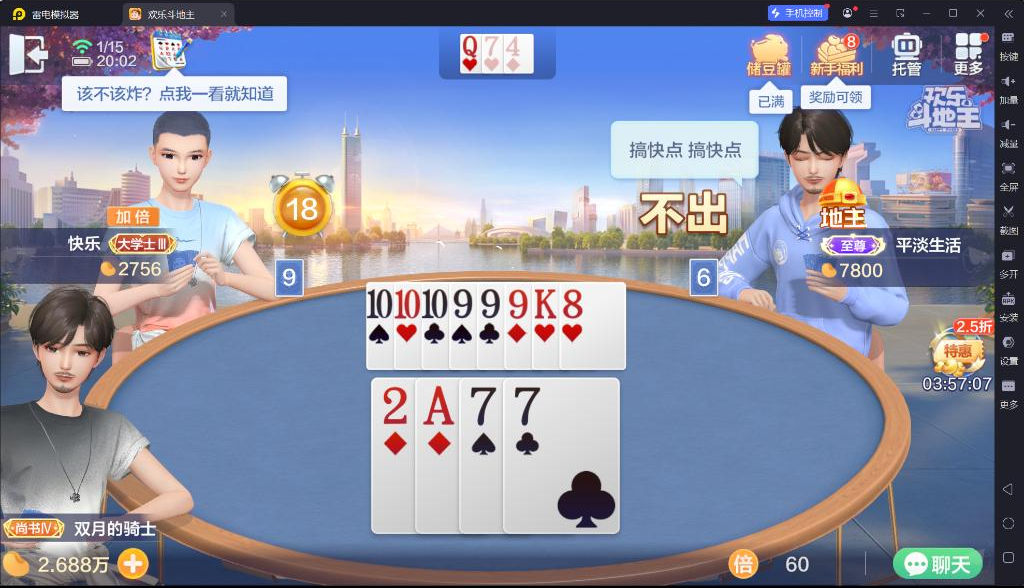A: (420, 382, 458, 429)
K: (533, 287, 558, 321)
Q: (461, 34, 479, 59)
eight: (561, 287, 585, 321)
four: (504, 35, 522, 58)
nine: (449, 287, 475, 322), (477, 286, 501, 320), (505, 288, 530, 320)
seven: (466, 383, 498, 428), (511, 384, 542, 428), (484, 35, 500, 57)
ten: (421, 285, 450, 320), (395, 287, 422, 321), (367, 288, 394, 320)
two: (379, 384, 410, 427)
